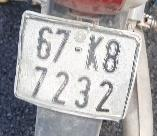2: (52, 69, 71, 107), (96, 78, 113, 115)
3: (75, 75, 92, 108)
6: (32, 23, 53, 63), (32, 62, 50, 101)
7: (52, 25, 72, 65)
8: (104, 35, 123, 76)
K: (84, 32, 103, 72)
